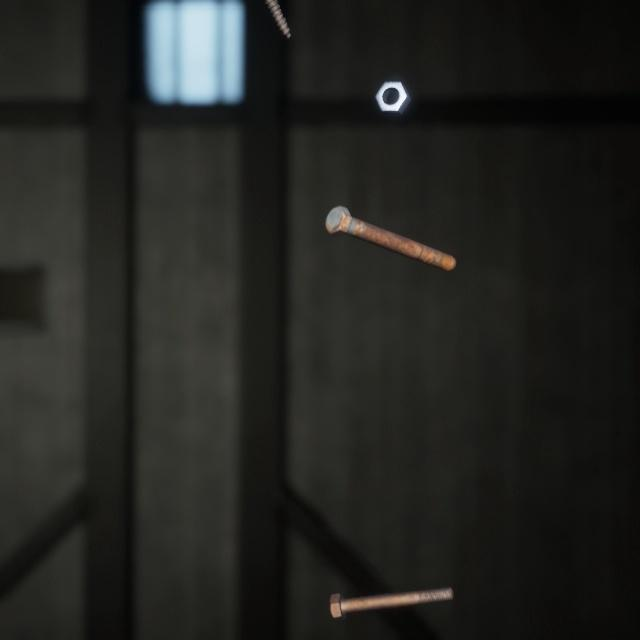bolt: (320, 185, 460, 260), (325, 559, 458, 603), (263, 0, 295, 36)
nut: (370, 66, 415, 108)
